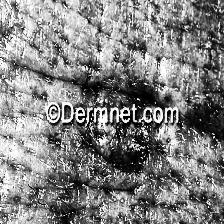Benign Marking or Mole: (94, 95, 150, 172)
